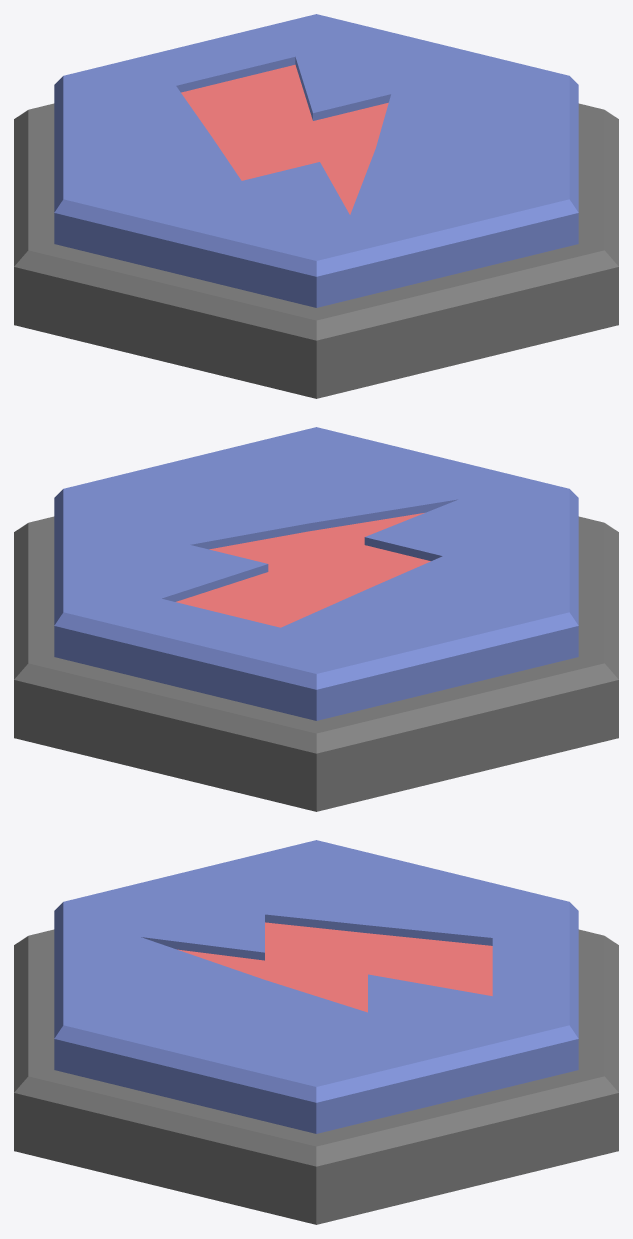
Rendered from Power Button.fbx.
3 renders of one model, top to bottom at view 1: azimuth 30°, elevation 25°; view 2: azimuth 150°, elevation 25°; view 3: azimuth 270°, elevation 25°, orthographic.
Visible parts, largest first — view 1: Button, Cylinder001; view 2: Button, Cylinder001; view 3: Button, Cylinder001.
Boxes of the visible parts, <box> form: Button: <box>54,14,578,307</box>; Cylinder001: <box>14,103,618,398</box>; Button: <box>54,427,578,720</box>; Cylinder001: <box>14,516,618,811</box>; Button: <box>54,840,578,1133</box>; Cylinder001: <box>14,929,618,1224</box>.
Size of the model in its own units: 54.15 by 9.73 by 46.9.
